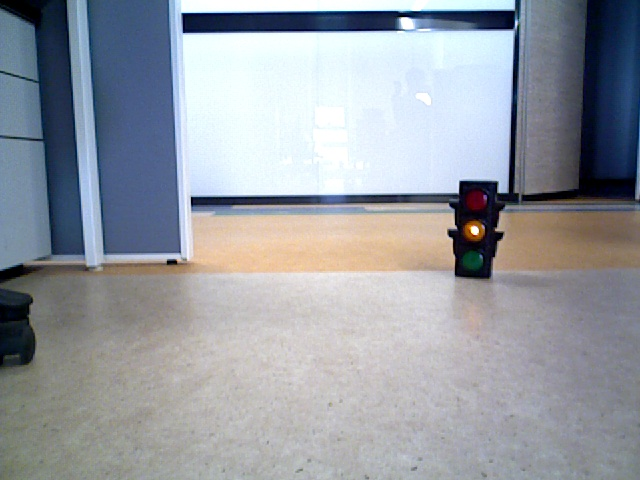yellow: (456, 182, 490, 271)
